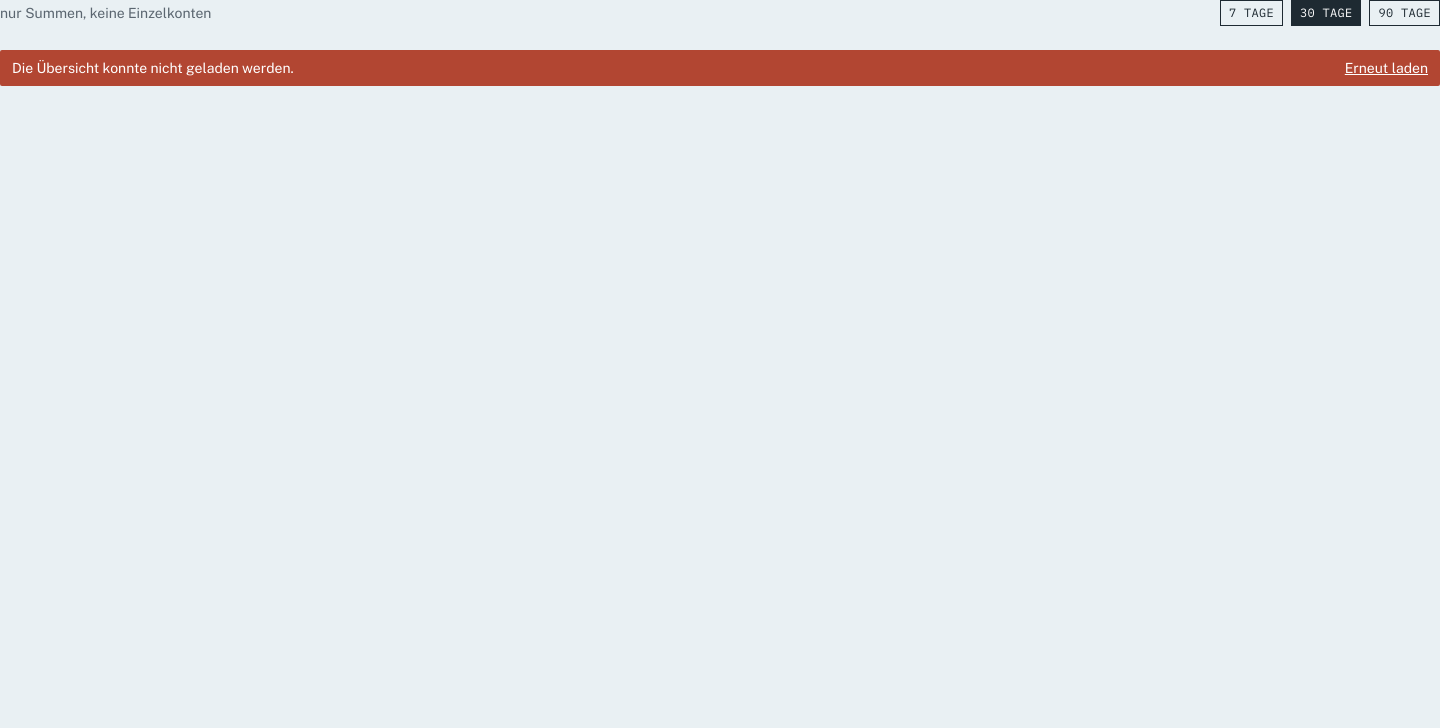
AdminDashboardPage › offers a retry when loading fails
expect the text "Die Übersicht konnte nicht geladen werden." is shown: met, box [12,58,294,78]
Click the button "Erneut laden": (1386, 68) [1345,58,1428,78]
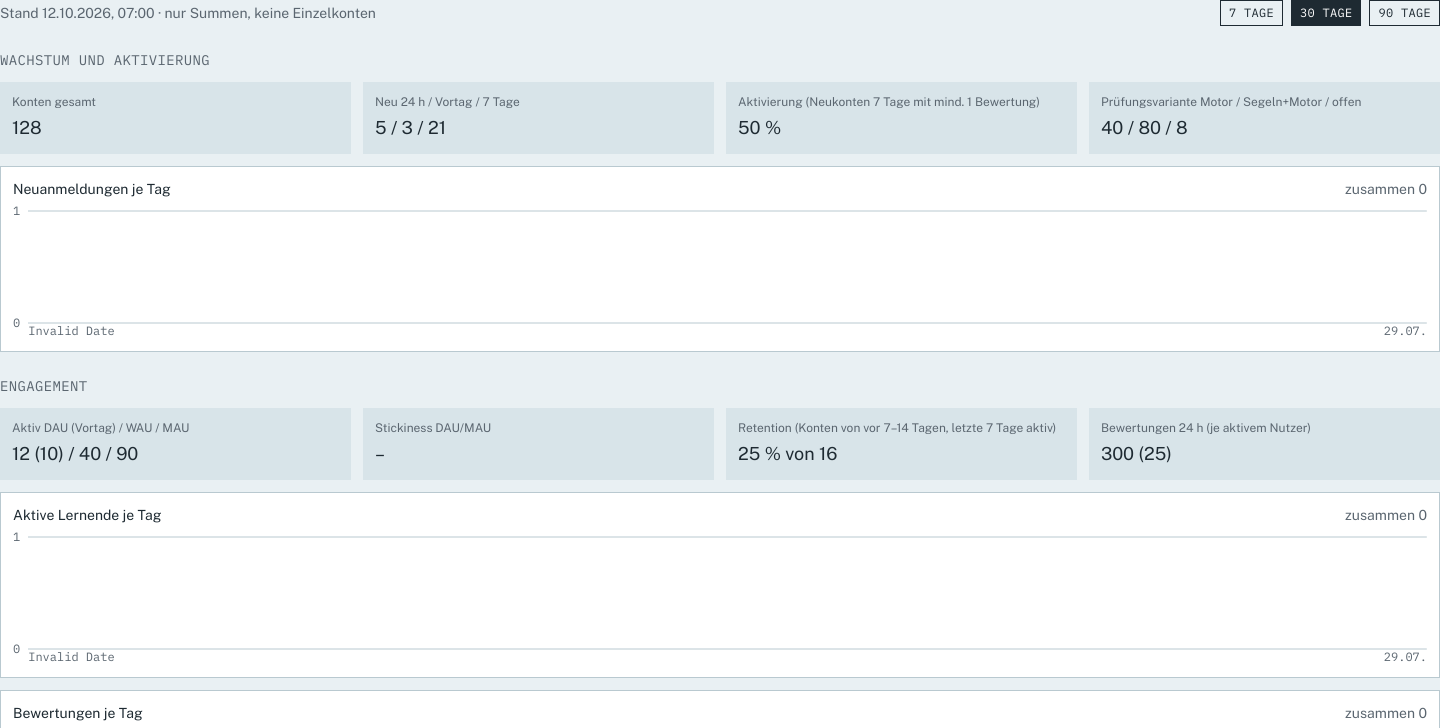
expect the text "128" is shown: met, box [12,117,42,138]
